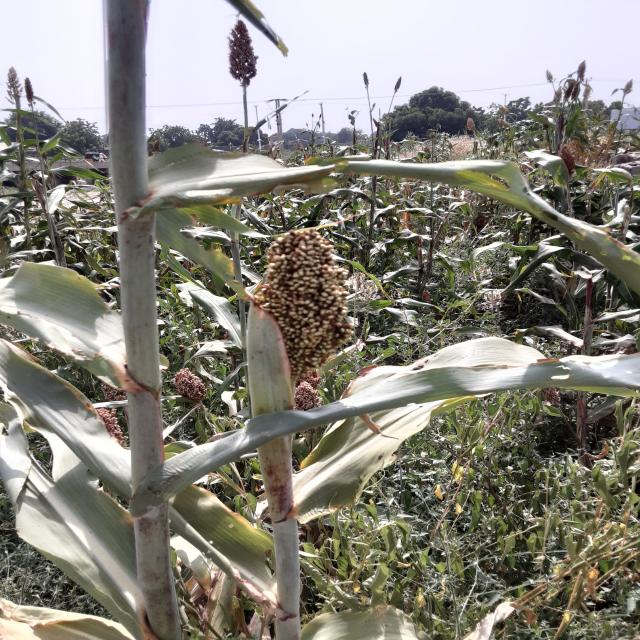RipeSorghum: (230, 218, 405, 363)
